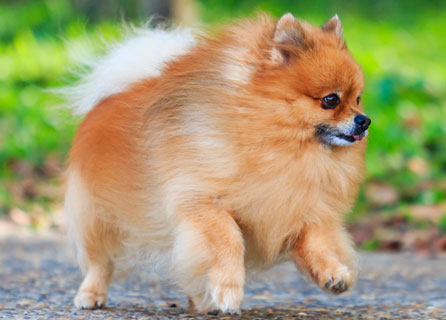pomeranian: (66, 7, 377, 316)
